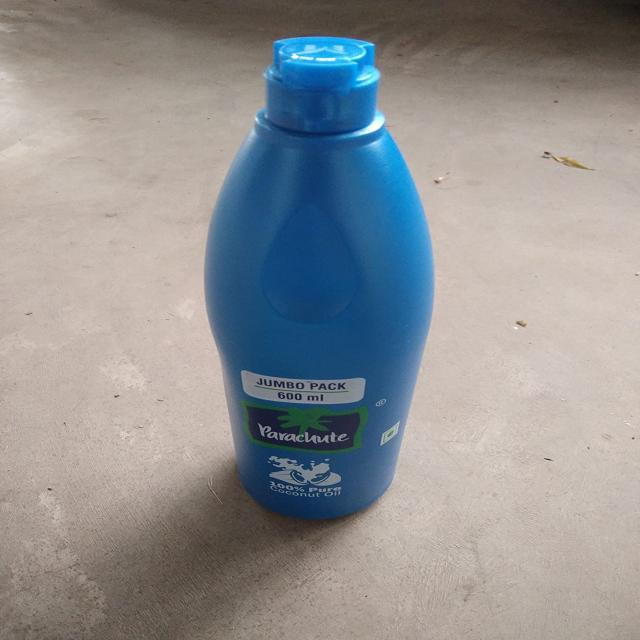parachute_oil: (192, 31, 446, 534)
